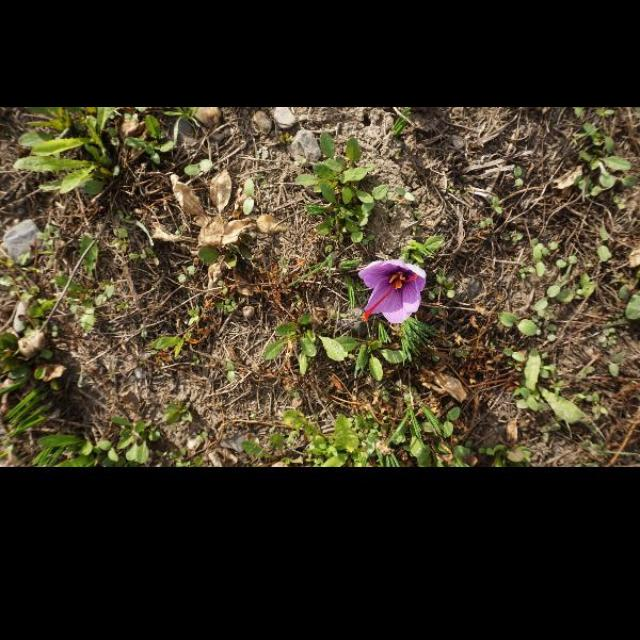flower: (358, 258, 428, 324)
